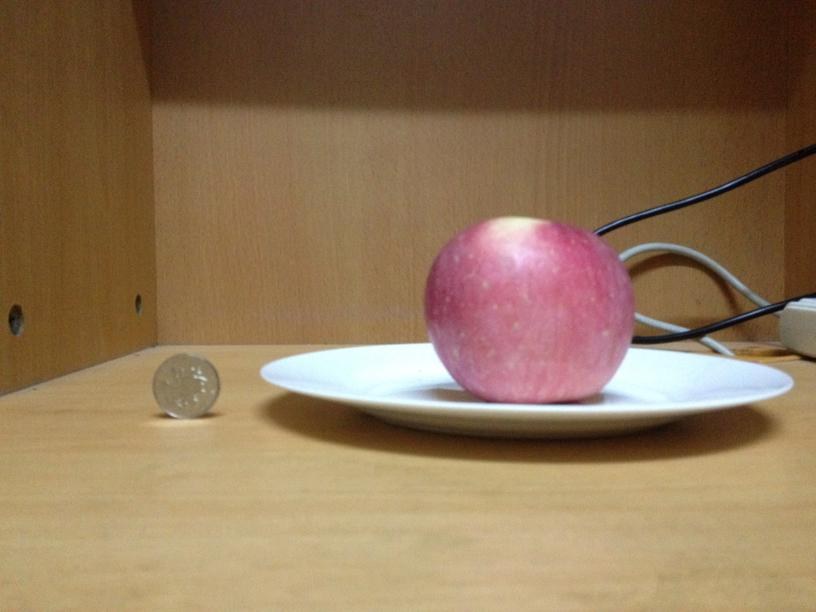apple: (420, 218, 636, 402)
coin: (148, 351, 221, 420)
